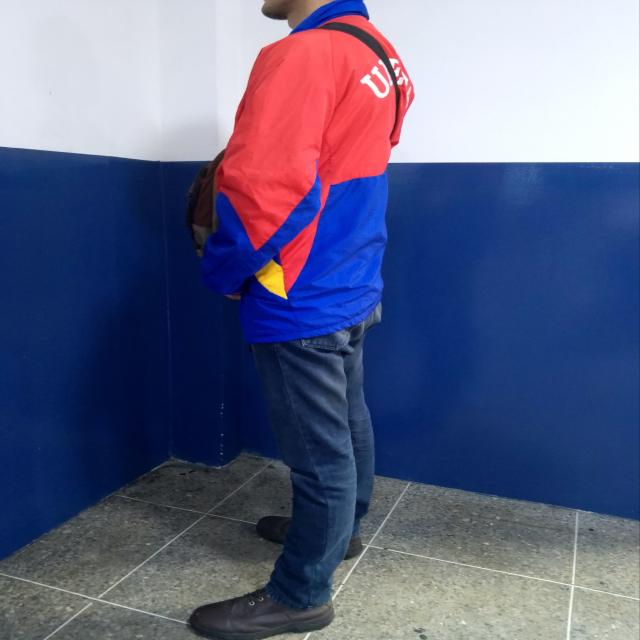chaqueta_unefa: (198, 0, 416, 346)
pantalon_oscuro: (265, 299, 384, 608)
